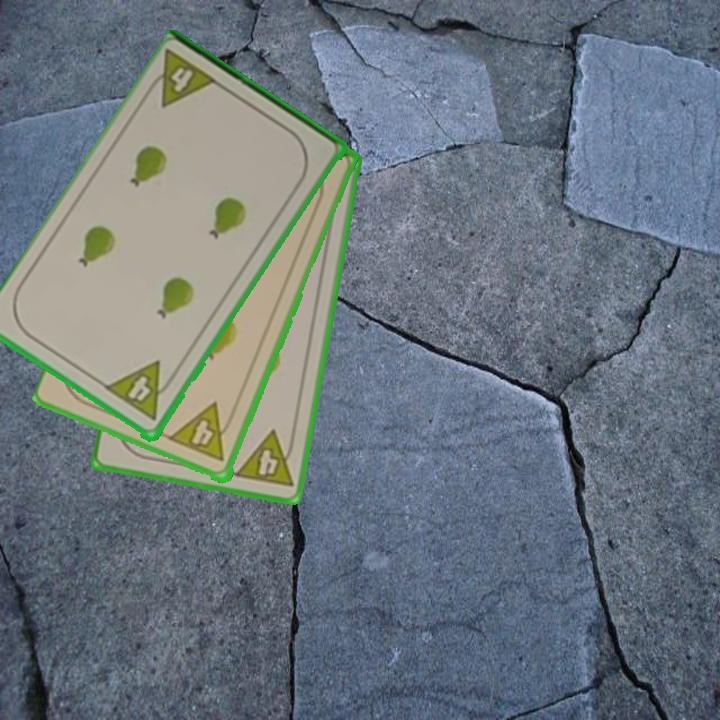4p: (141, 46, 222, 112), (103, 358, 179, 424), (167, 400, 239, 465), (231, 427, 299, 491)
